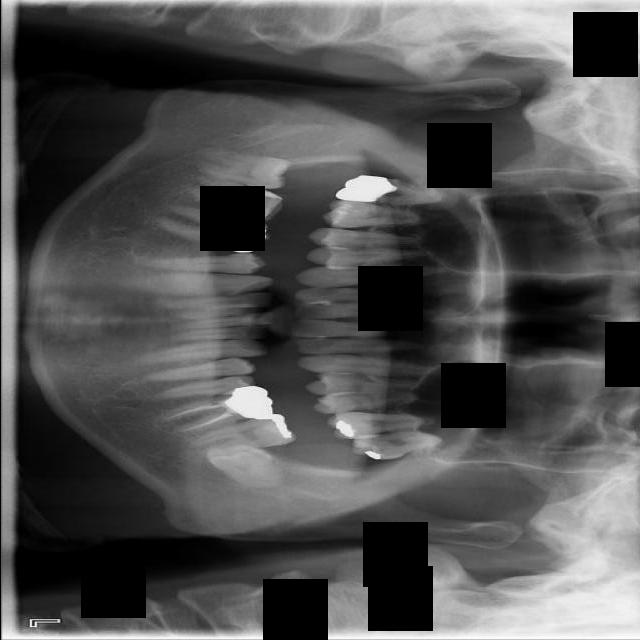52: (209, 215, 271, 258), (241, 409, 295, 455), (216, 383, 272, 424), (333, 172, 396, 205), (228, 188, 282, 222), (349, 433, 410, 462), (323, 410, 379, 441), (294, 336, 350, 356), (292, 320, 349, 339), (293, 287, 353, 305), (293, 301, 349, 320), (364, 175, 397, 180)
73: (158, 391, 240, 439), (48, 471, 50, 479)
BioHorizons Implant: (349, 429, 442, 462)
Biomet 3i Implant: (199, 435, 290, 495)
Blue Sky Bio Implant: (185, 411, 296, 459)
Caries: (333, 172, 446, 211)
Implant: (177, 169, 284, 228)
Keystone Dental Implant: (191, 148, 292, 192)
